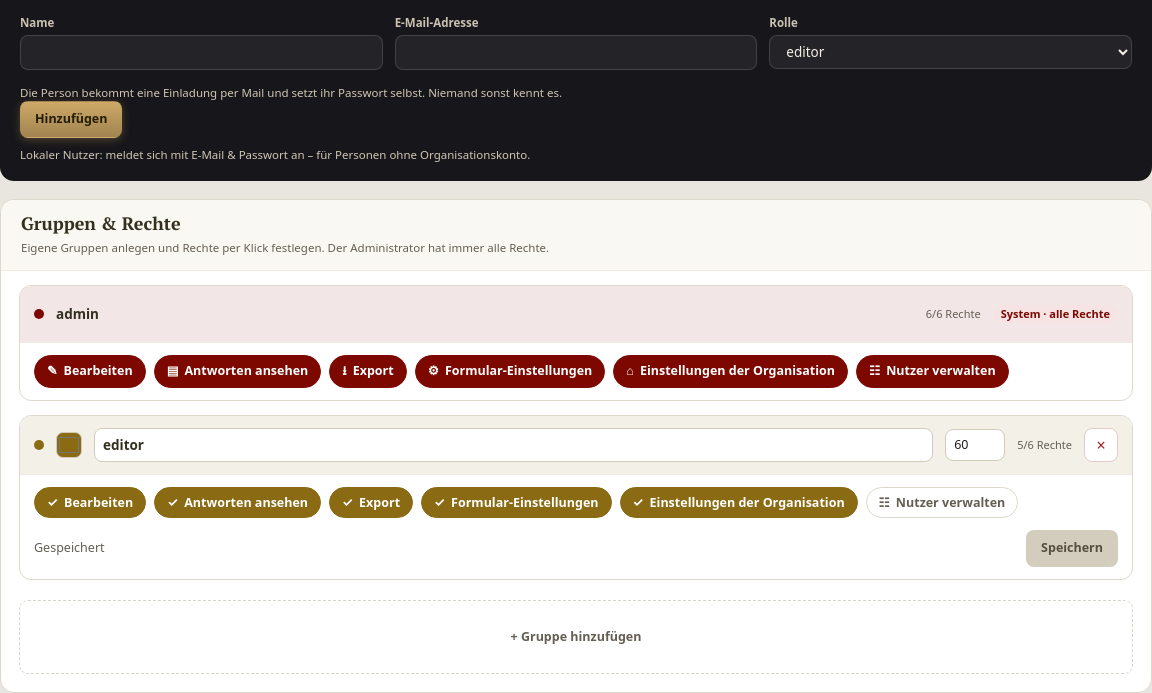
Test case: the organisation’s groups › share one cache entry: a rename in the editor reaches the matrix
The width and height of the screenshot is (1152, 693).
(page scrolled)
// Rename the group in the editor and save.
Replace the text in the field named "Name der Gruppe editor" with "Schriftleitung" at (514, 445), box 94,428 -> 933,462
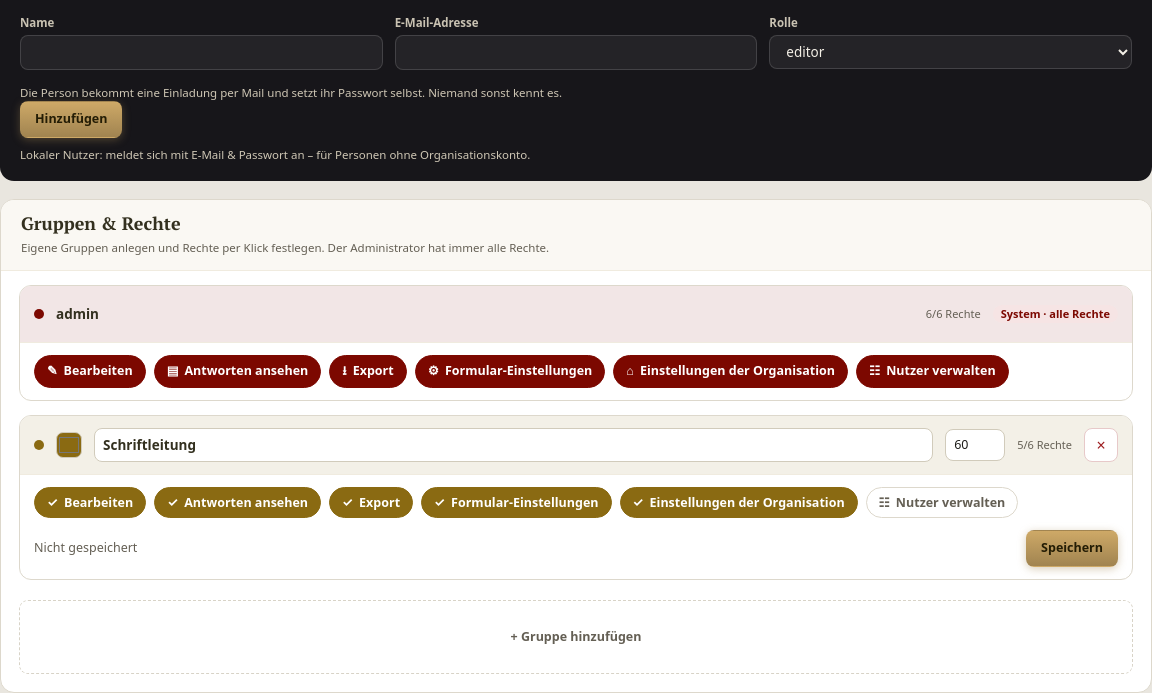
Click the button "Speichern" at (1072, 548), box 1026,530 -> 1118,567
(page scrolled)
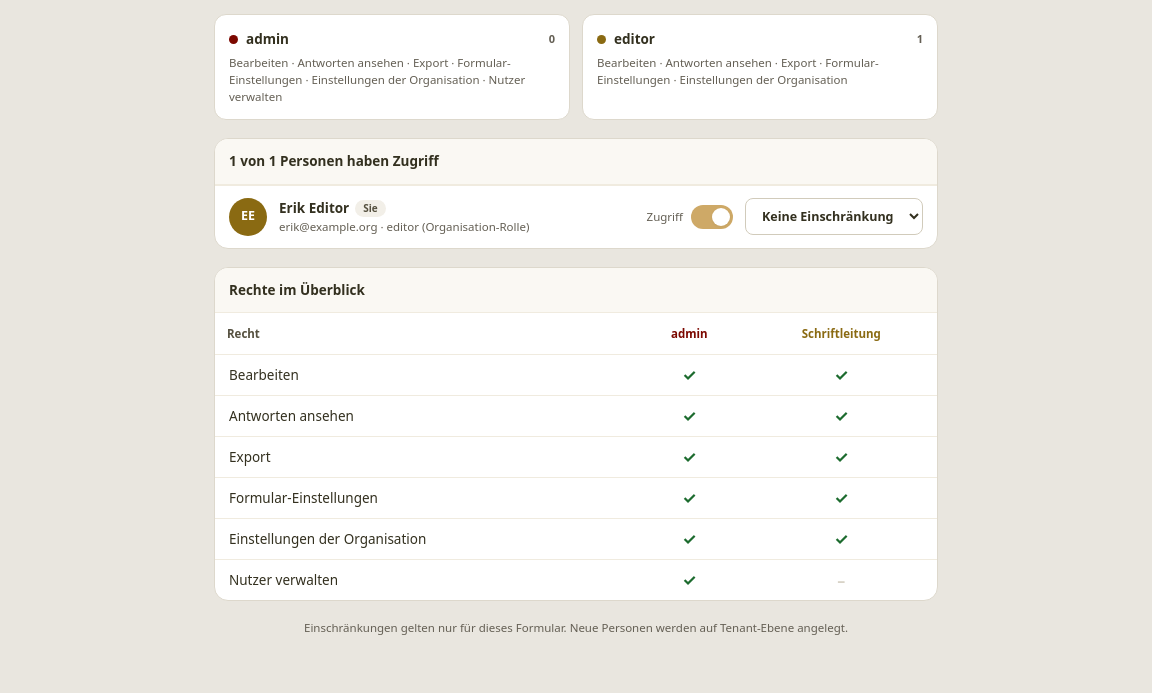
Expected: the column heading "Schriftleitung" is shown, 746,313 -> 937,355
